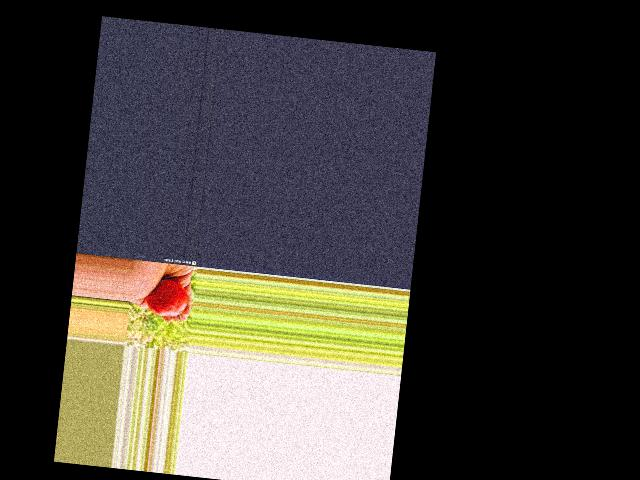tomato: (144, 277, 189, 318)
